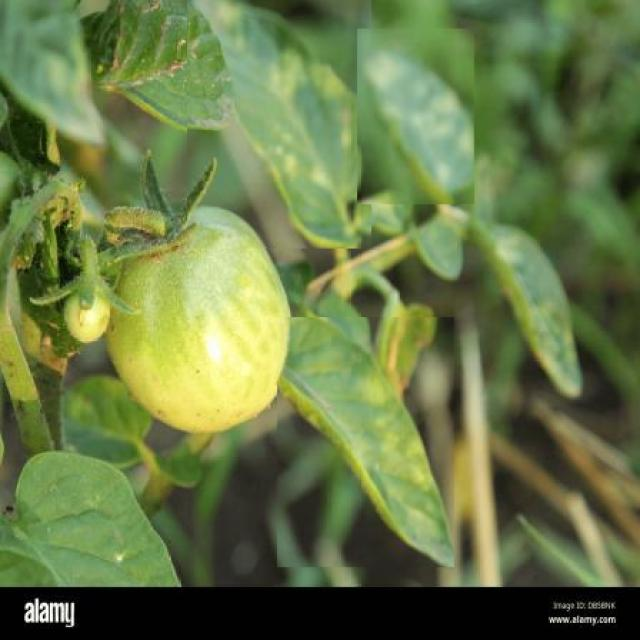Mosaic Virus: (187, 0, 372, 249), (278, 317, 455, 567), (356, 29, 474, 204)
